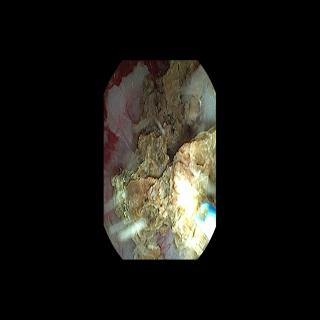fiber: (197, 205, 215, 239)
stone: (111, 63, 215, 257)
tissue: (105, 64, 158, 166)
